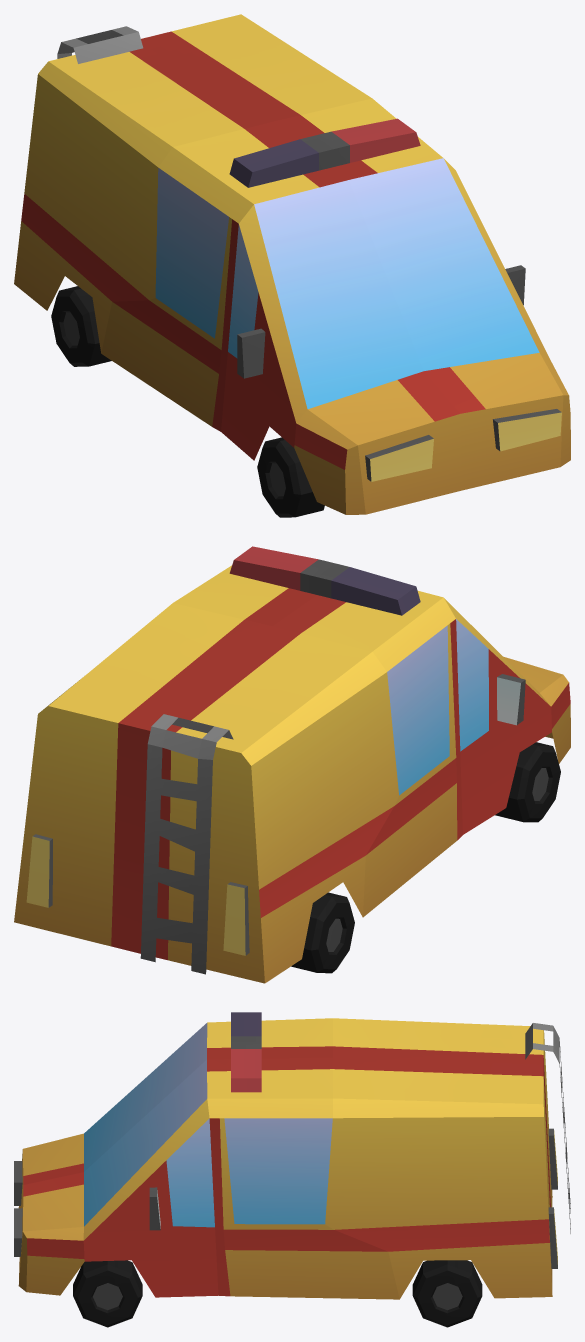
Rendered from gas_service.fbx.
3 views of the same model, one above another, from view 1: azimuth 30°, elevation 25°; view 2: azimuth 150°, elevation 25°; view 3: azimuth 270°, elevation 25° (orthographic). The views are drawn at different scales.
Parts seen in each view (by area): view 1: g_wheels.001; view 2: g_wheels.001; view 3: g_wheels.001.
Boxes of the visible parts, x1,y1,x2,y2 form: g_wheels.001: (14, 14, 570, 517); g_wheels.001: (14, 546, 570, 983); g_wheels.001: (14, 1012, 570, 1327).
Bounding box in the file's own units: 283 × 269 × 583.
